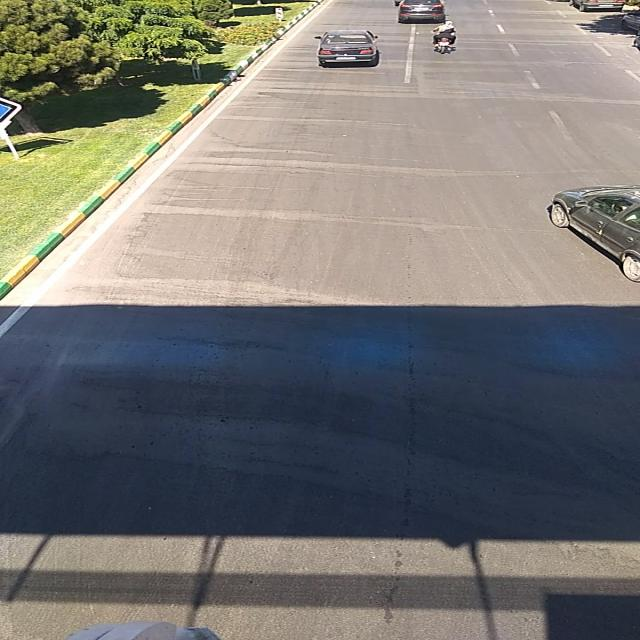car: (548, 186, 640, 282), (310, 30, 380, 69), (392, 0, 448, 22)
motor: (432, 20, 454, 54)
